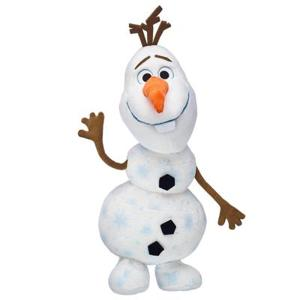olaf: (95, 13, 224, 299)
